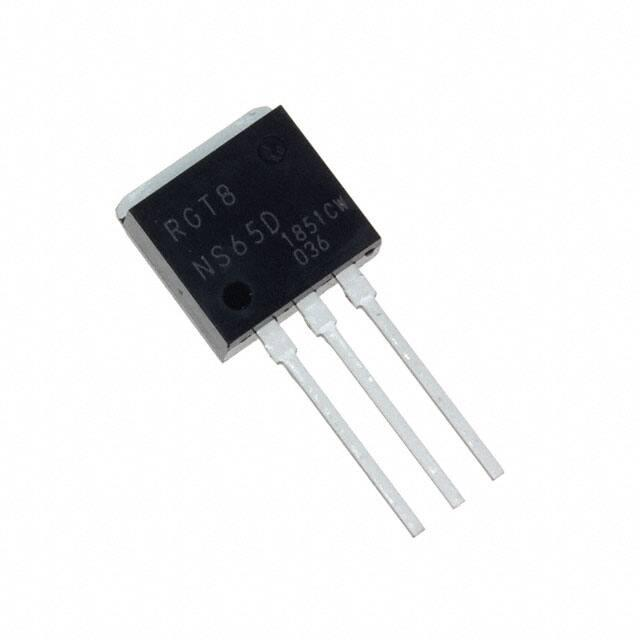Transistor: (119, 109, 503, 538)
